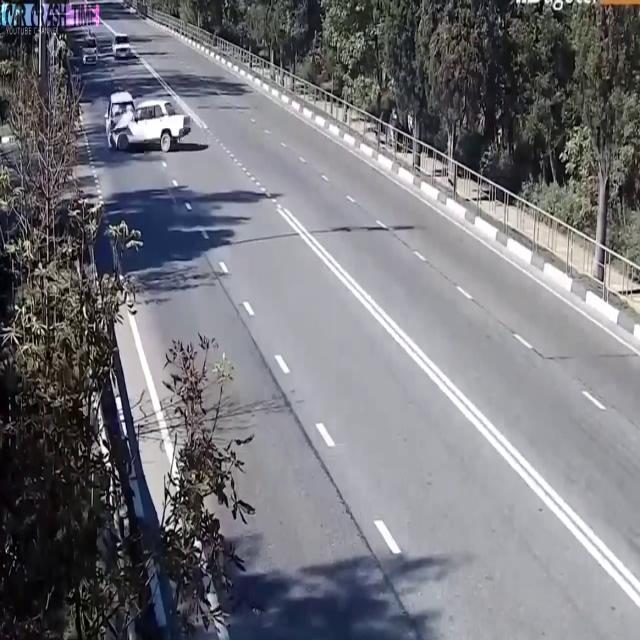accident: (107, 92, 189, 154)
